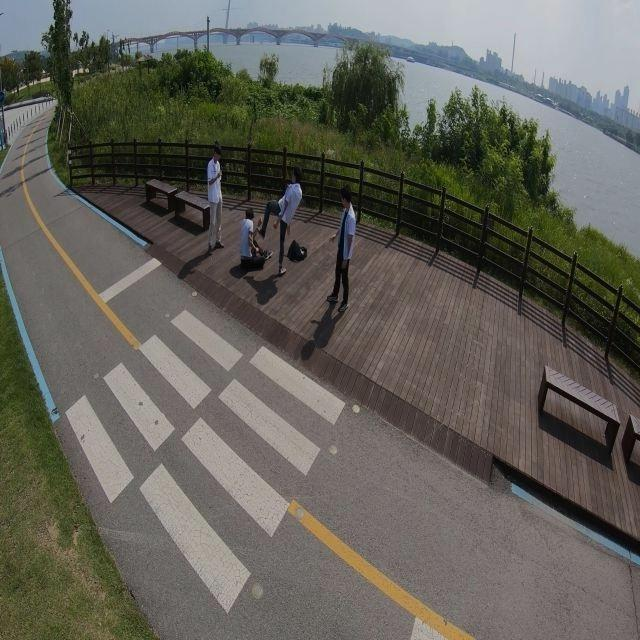fight: (240, 167, 302, 276)
non-fight: (330, 189, 355, 312), (206, 146, 226, 251)
